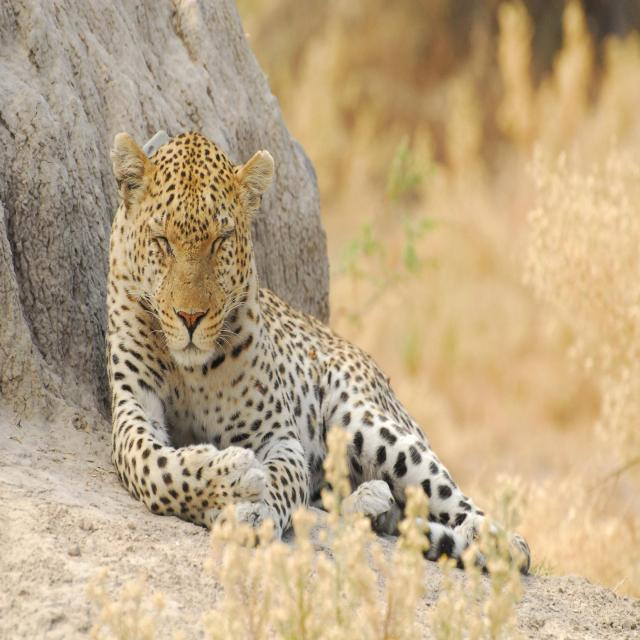Leopard: (107, 100, 550, 594)
